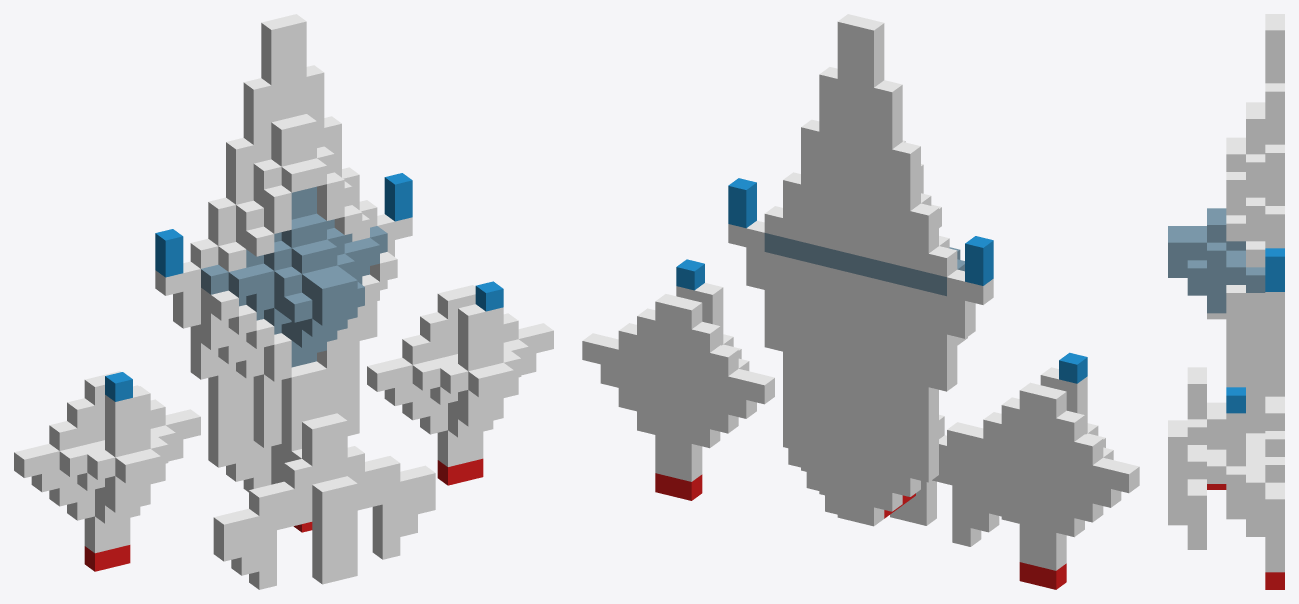
File: spaceshp2.obj
3 views of the same model, side by side, from view 1: azimuth 30°, elevation 25°; view 2: azimuth 150°, elevation 25°; view 3: azimuth 270°, elevation 25° (orthographic). The views are drawn at different scales.
Bounding box in the file's own units: 3 × 2.8 × 0.6.
Materials: 1 (1 with a texture image).
